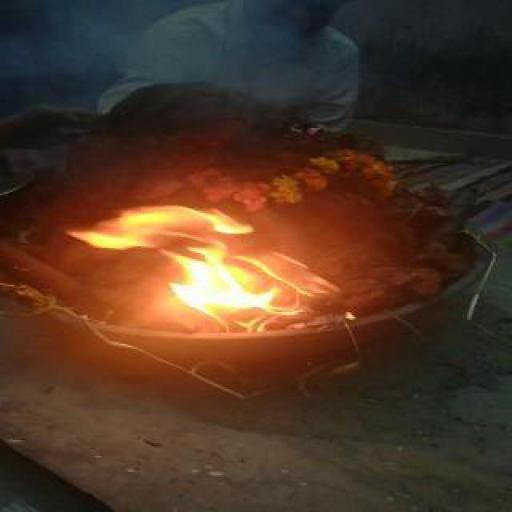smoke: (94, 202, 325, 332)
